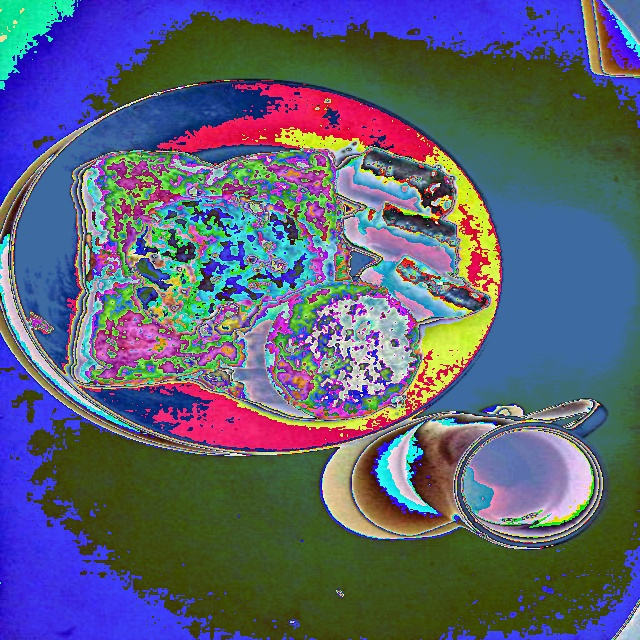background: (106, 97, 569, 528), (75, 147, 491, 421)
